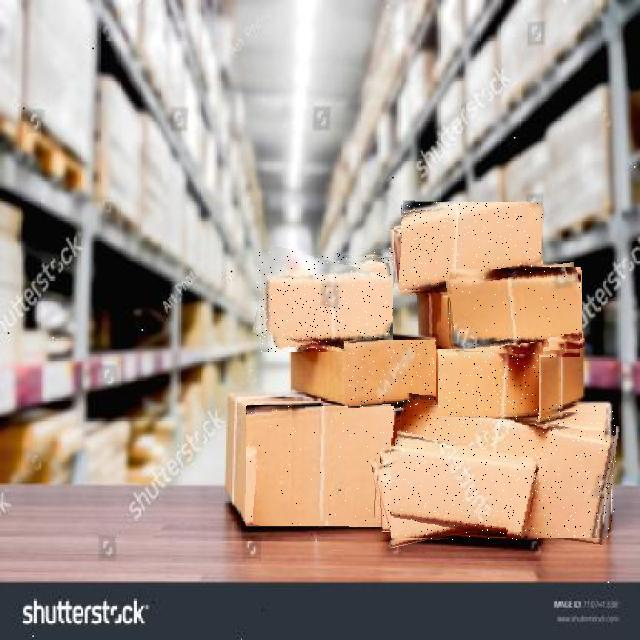BoxFace: (391, 404, 617, 538), (246, 406, 394, 526), (376, 440, 542, 540), (256, 251, 393, 352), (399, 202, 543, 296), (448, 267, 582, 361), (438, 349, 539, 414), (344, 340, 436, 408)
